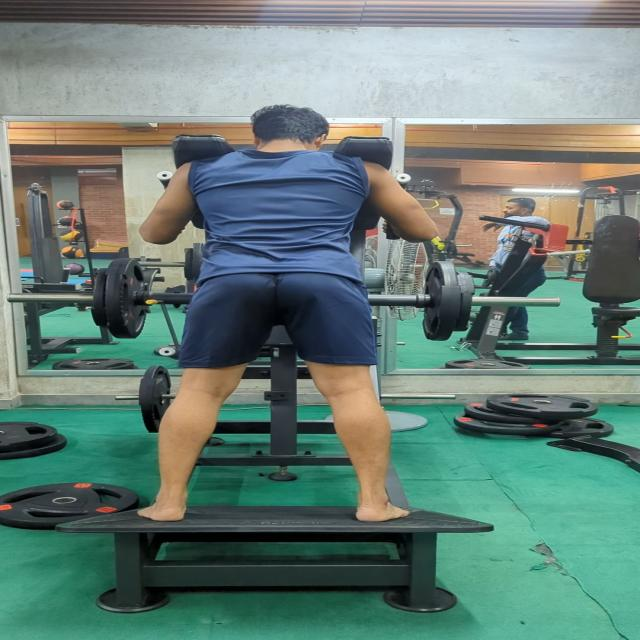Normal_SquatsWithBarbell: (134, 102, 436, 537)
